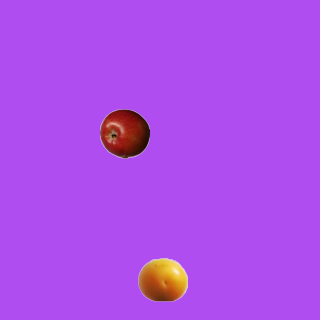Apple Braeburn: (99, 108, 149, 158)
Cherry Wax Yellow: (137, 254, 187, 304)
